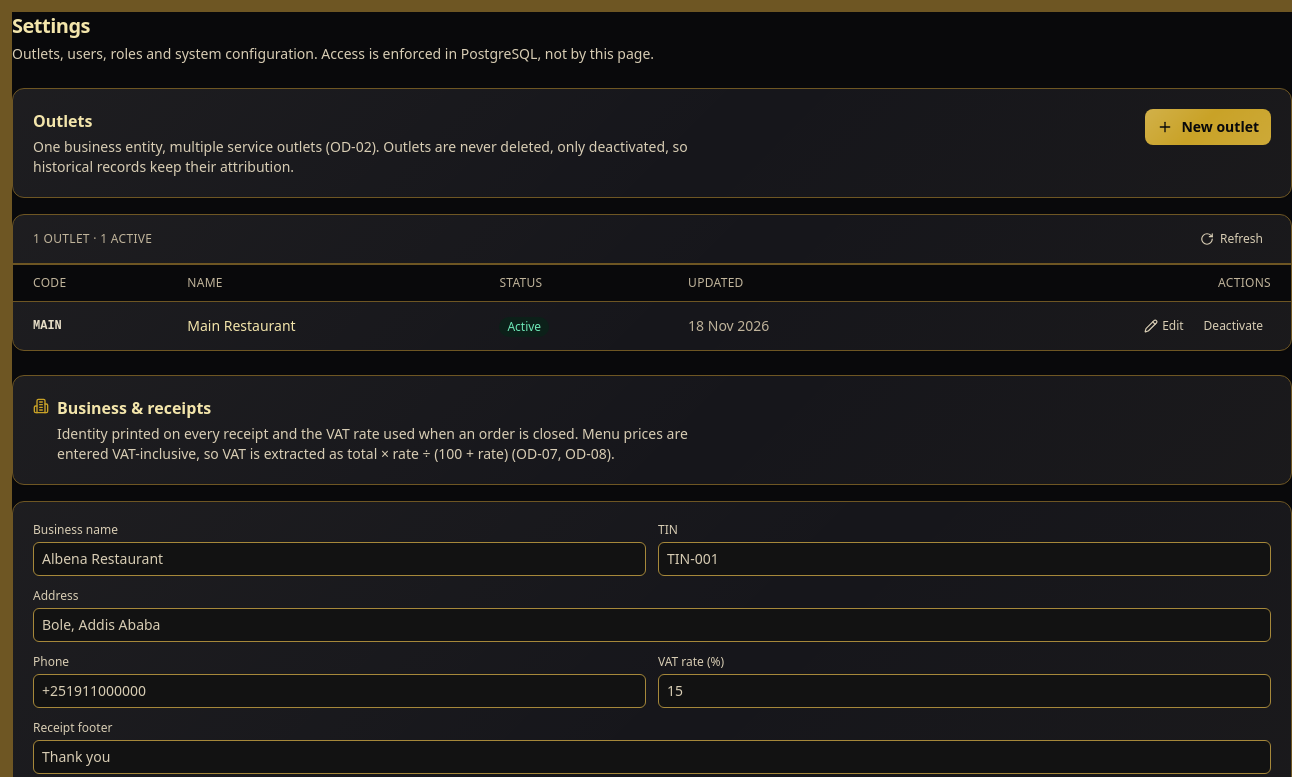
Test: Settings — outlets › blocks submission when the form is invalid
Expected: the text "Main Restaurant" is shown, [167,302,479,350]
Click the button "New outlet": (1208, 127) [1145,109,1271,145]
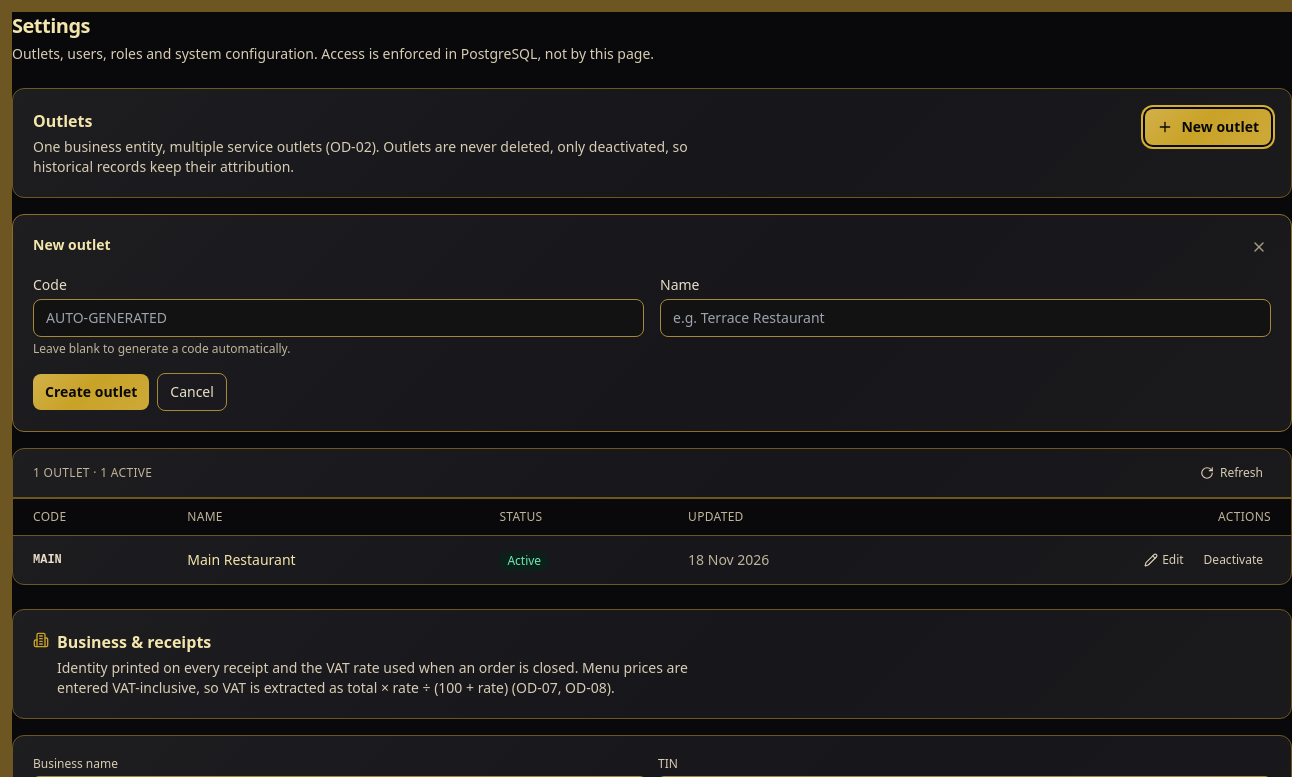
Click the button "Create outlet": (91, 392) [33,374,149,410]
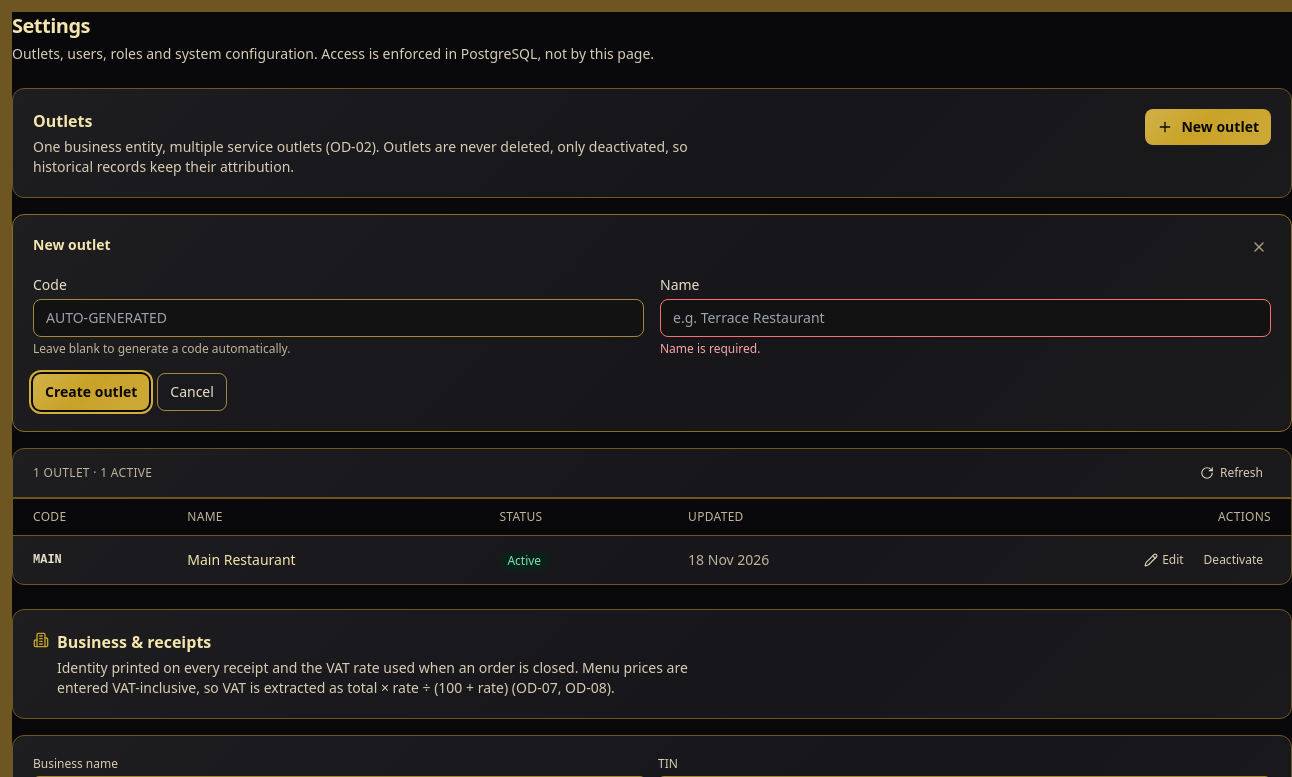
Expected: the text "Name is required." is shown, [660,340,760,357]
